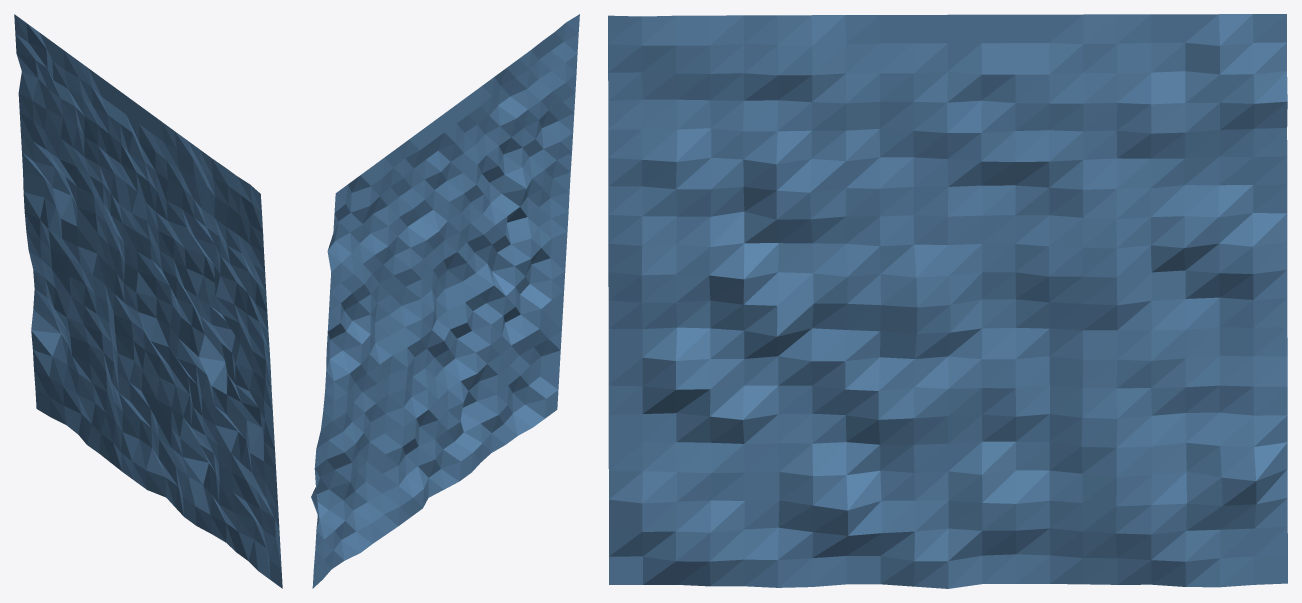
Rendered from node.003_lev3.glb.
3 views of the same model, side by side, from view 1: azimuth 30°, elevation 25°; view 2: azimuth 150°, elevation 25°; view 3: azimuth 270°, elevation 25° (orthographic). The views are drawn at different scales.
Parts seen in each view (by area): view 1: node.003_lev3; view 2: node.003_lev3; view 3: node.003_lev3.
Boxes of the visible parts, x1,y1,x2,y2 form: node.003_lev3: (14, 14, 282, 588); node.003_lev3: (311, 14, 579, 588); node.003_lev3: (608, 14, 1287, 588).
Size of the model in its own units: 9.83 by 105 by 116.
